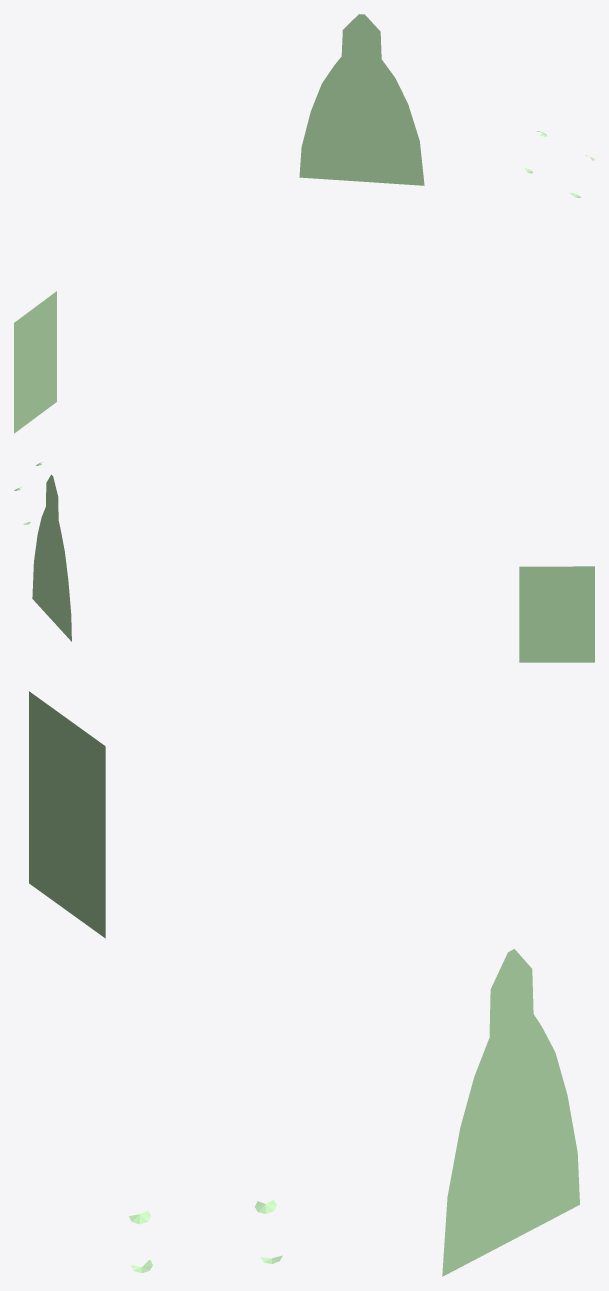
Rendered from dirtmouth_doors.obj.
3 renders of one model, top to bottom at view 1: azimuth 30°, elevation 25°; view 2: azimuth 150°, elevation 25°; view 3: azimuth 270°, elevation 25°, orthographic. The views are drawn at different scales.
Visible parts, largest first — view 1: doors_initialShadingGroup; view 2: doors_initialShadingGroup; view 3: doors_initialShadingGroup.
Boxes of the visible parts, bbox=[...] form: doors_initialShadingGroup: bbox=[14, 14, 594, 433]; doors_initialShadingGroup: bbox=[14, 462, 594, 662]; doors_initialShadingGroup: bbox=[29, 691, 579, 1276].
Size of the model in its own units: 29.52 by 9.16 by 13.27.
